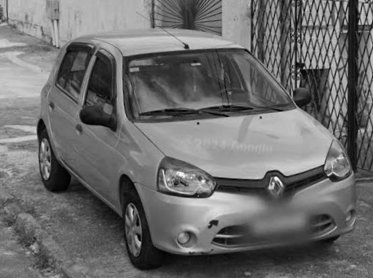car: (37, 26, 357, 272)
